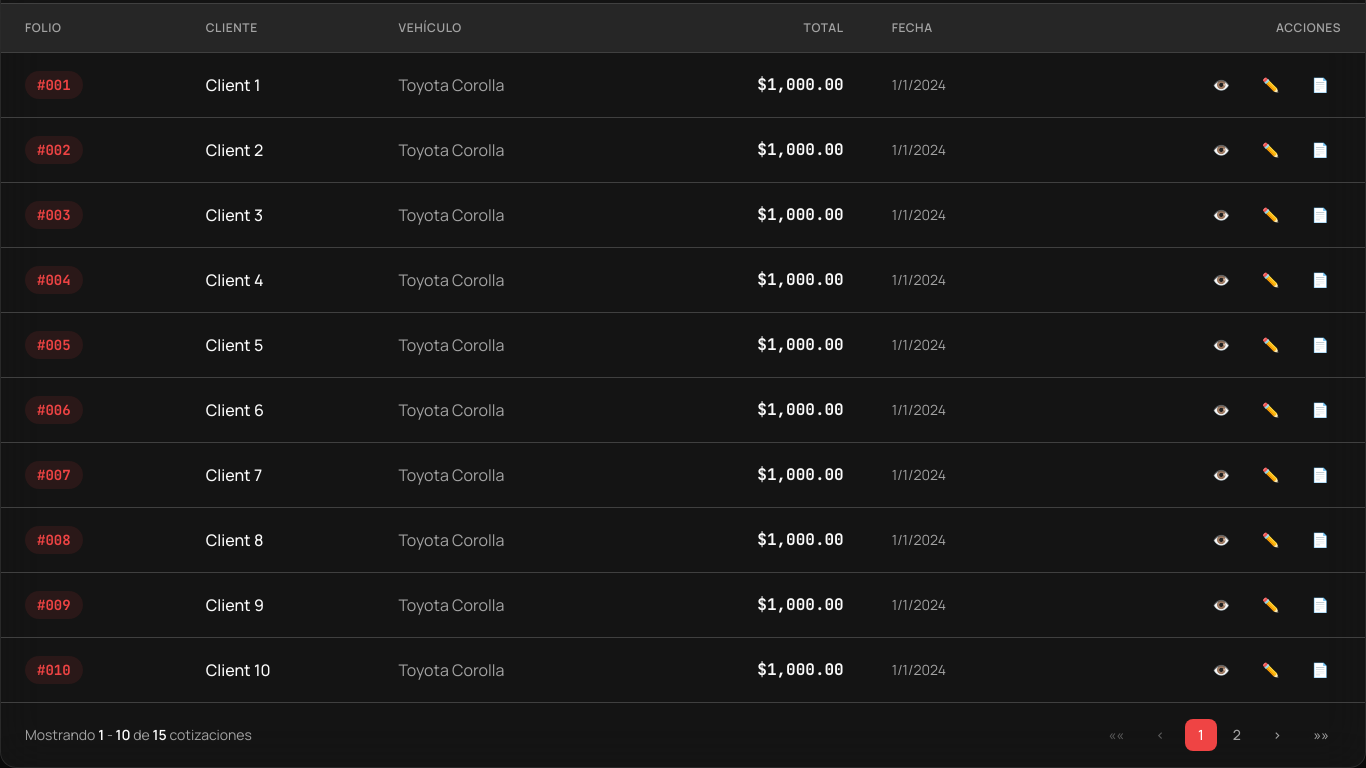
Scenario: QuotationList component › navigates to previous page
(page scrolled)
// Go to page 2
Click the button "2": coordinates (1237, 735) left=1221, top=719, right=1253, bottom=751
(page scrolled)
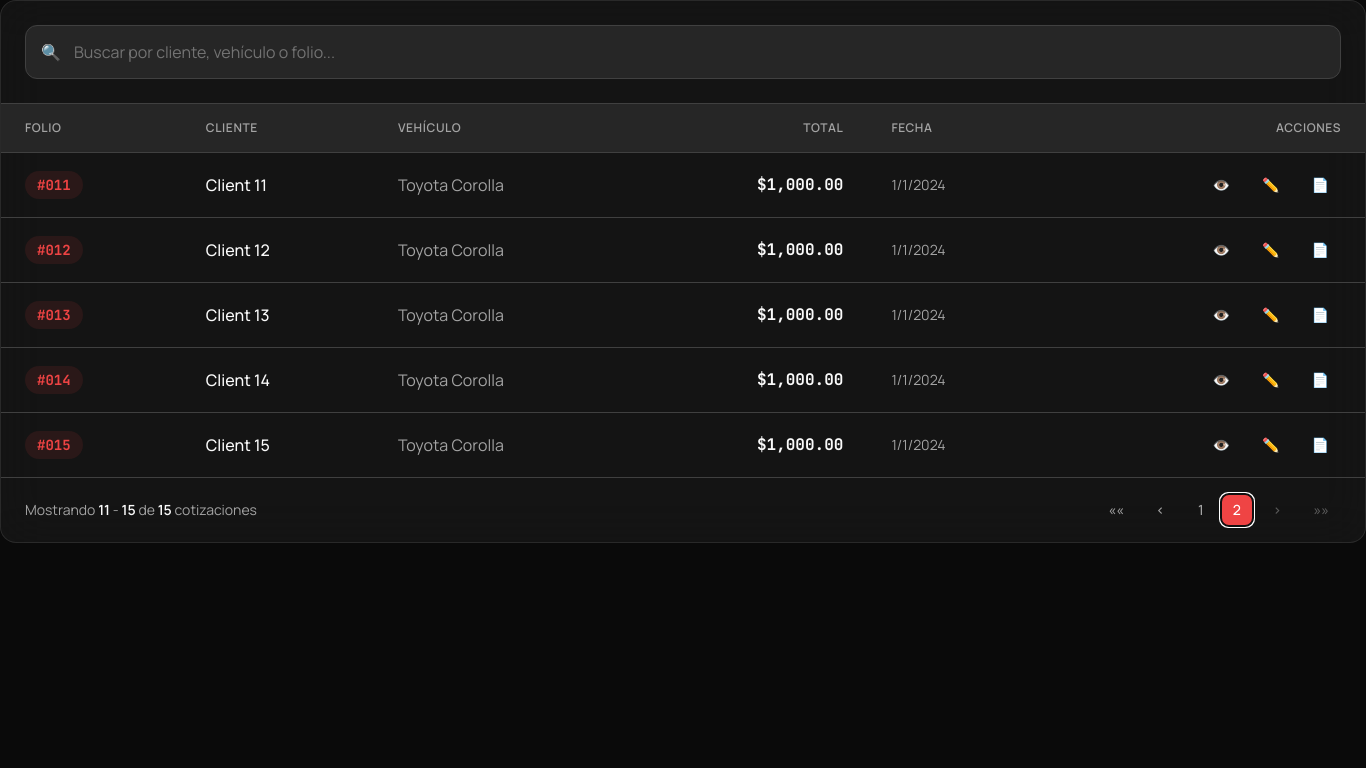
Result: the text "Client 11" is shown at left=182, top=152, right=374, bottom=218
// Go back to page 1
Click the button "‹": coordinates (1160, 510) left=1144, top=494, right=1177, bottom=526
(page scrolled)
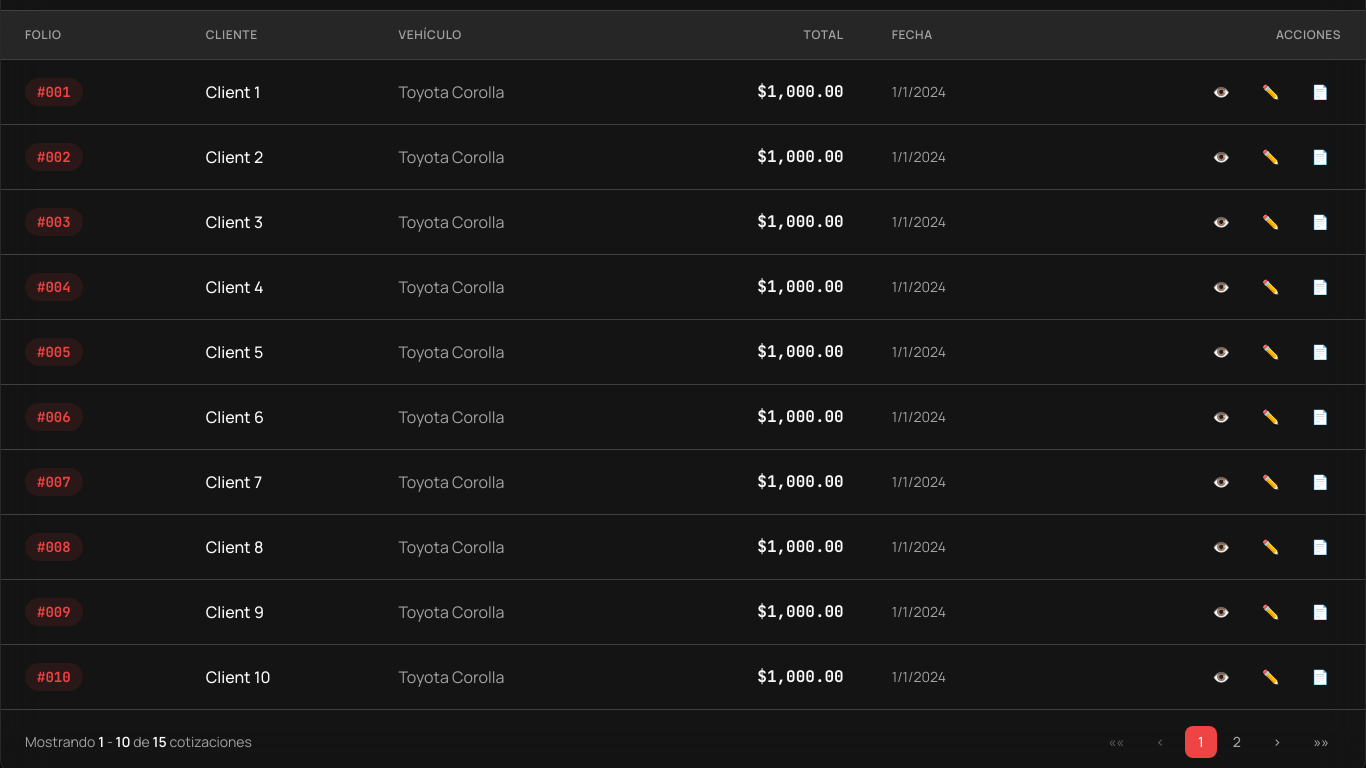
Expected: the table shows "Client 1", left=206, top=81, right=260, bottom=103
Result: the text "Client 11" is gone
